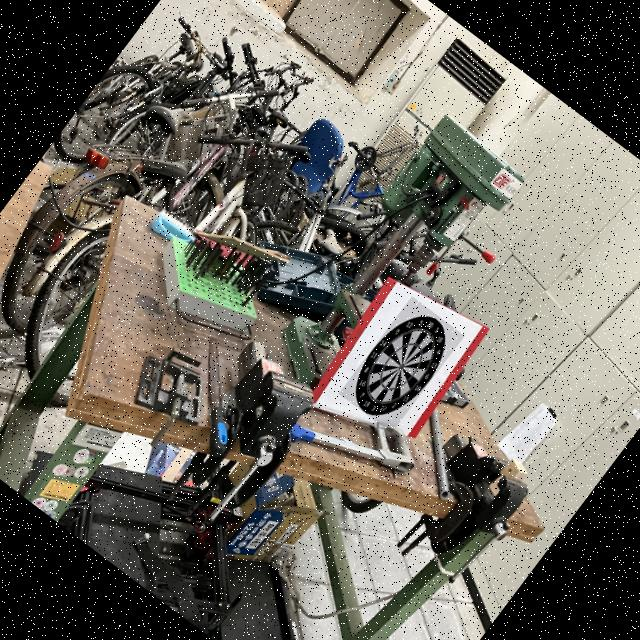archery-targets: (338, 296, 465, 434)
